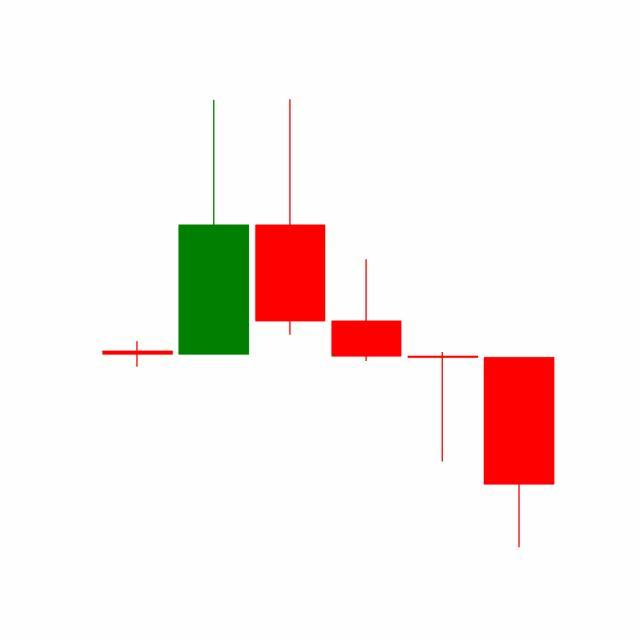Spinning Top: (404, 352, 482, 464)
